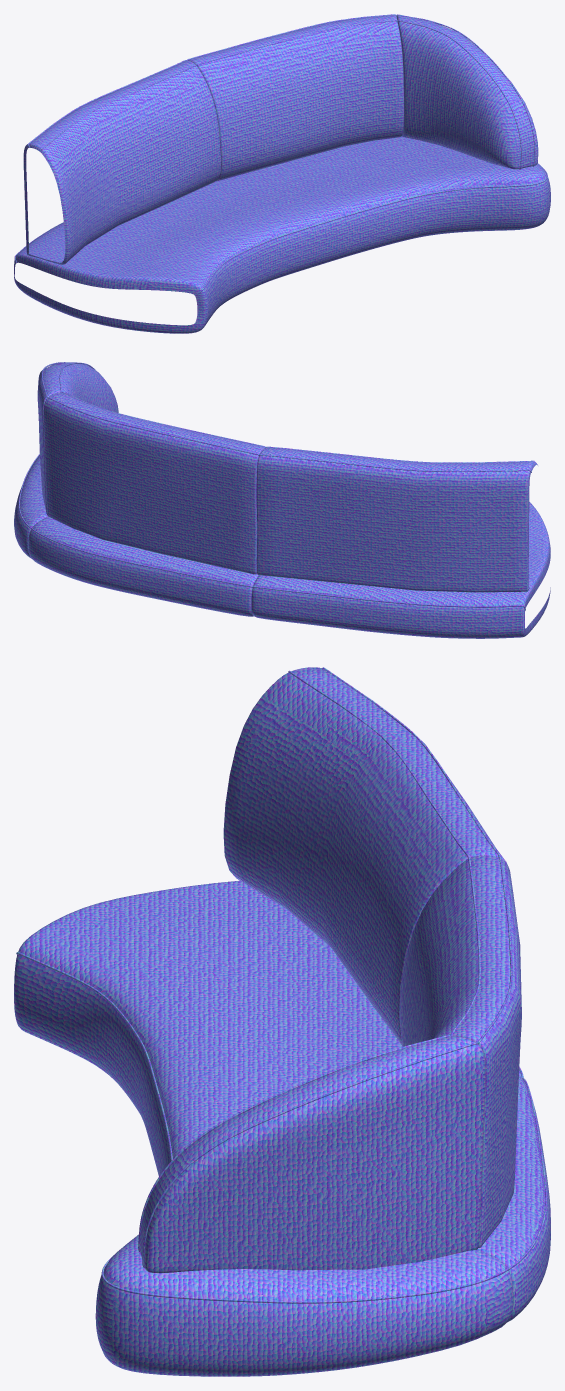
Rendered from levante_l_male_mirror.gltf.
The picture shows the model from 3 angles, top to bottom: view 1: azimuth 30°, elevation 25°; view 2: azimuth 150°, elevation 25°; view 3: azimuth 270°, elevation 25°; orthographic projection. The views are drawn at different scales.
Visible parts, largest first — view 1: levante_l_male001; view 2: levante_l_male001; view 3: levante_l_male001.
Boxes of the visible parts, left/top/right/bottom form: levante_l_male001: left=14, top=14, right=550, bottom=333; levante_l_male001: left=14, top=362, right=550, bottom=638; levante_l_male001: left=14, top=667, right=550, bottom=1376.
Bounding box in the file's own units: 2.21 × 0.6903 × 1.15.
Materials: 1 (1 with a texture image).
